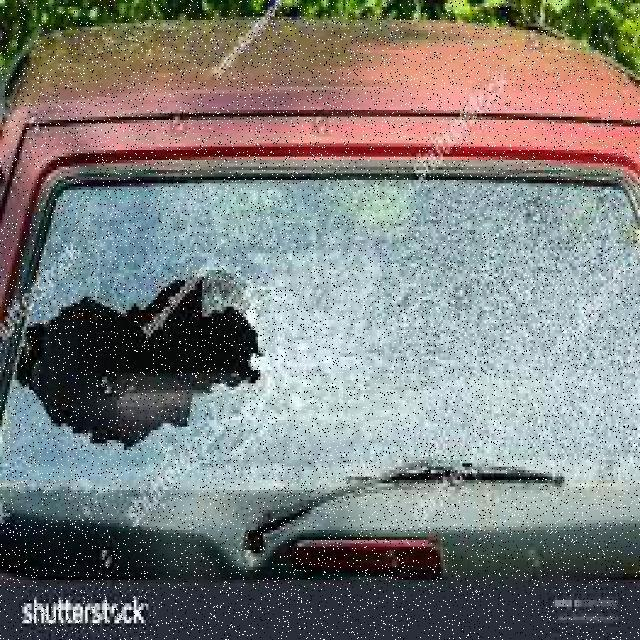car damage: (0, 93, 638, 570)
